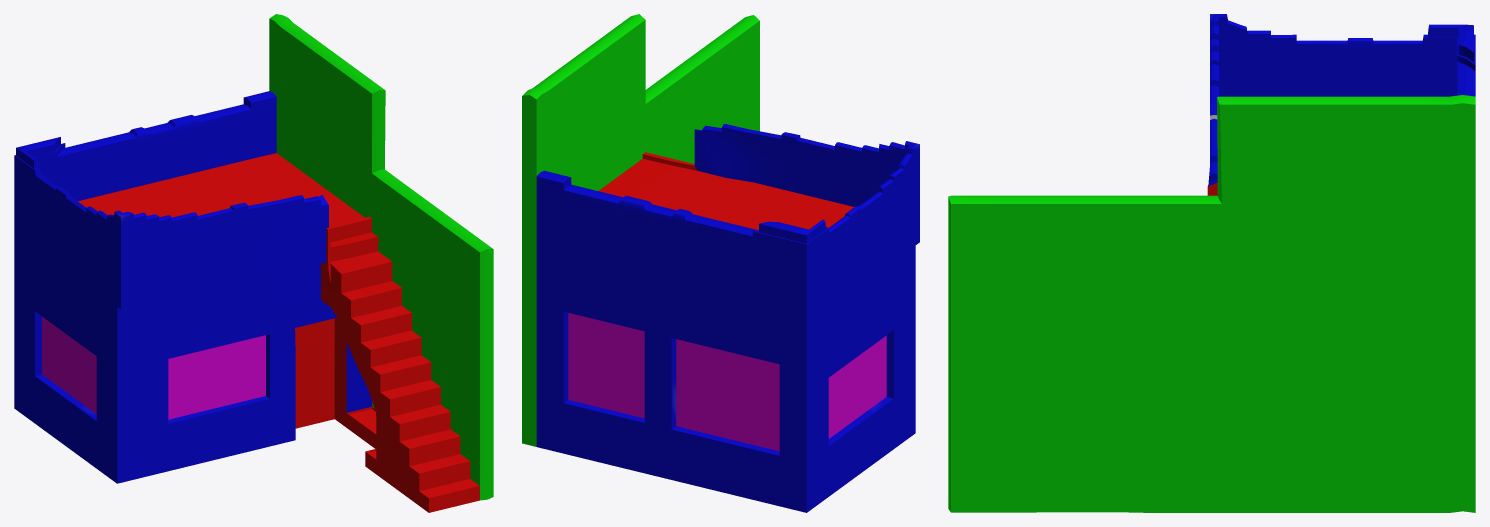
The model's file is Galponcito.fbx.
3 views of the same model, side by side, from view 1: azimuth 30°, elevation 25°; view 2: azimuth 150°, elevation 25°; view 3: azimuth 270°, elevation 25° (orthographic). The views are drawn at different scales.
Visible parts, largest first — view 1: Galpon; view 2: Galpon; view 3: Galpon.
Part boxes in pixels (bbox=[...]): Galpon: bbox=[14, 14, 493, 512]; Galpon: bbox=[522, 14, 919, 512]; Galpon: bbox=[948, 14, 1475, 512].
Size of the model in its own units: 638 by 754 by 871.
